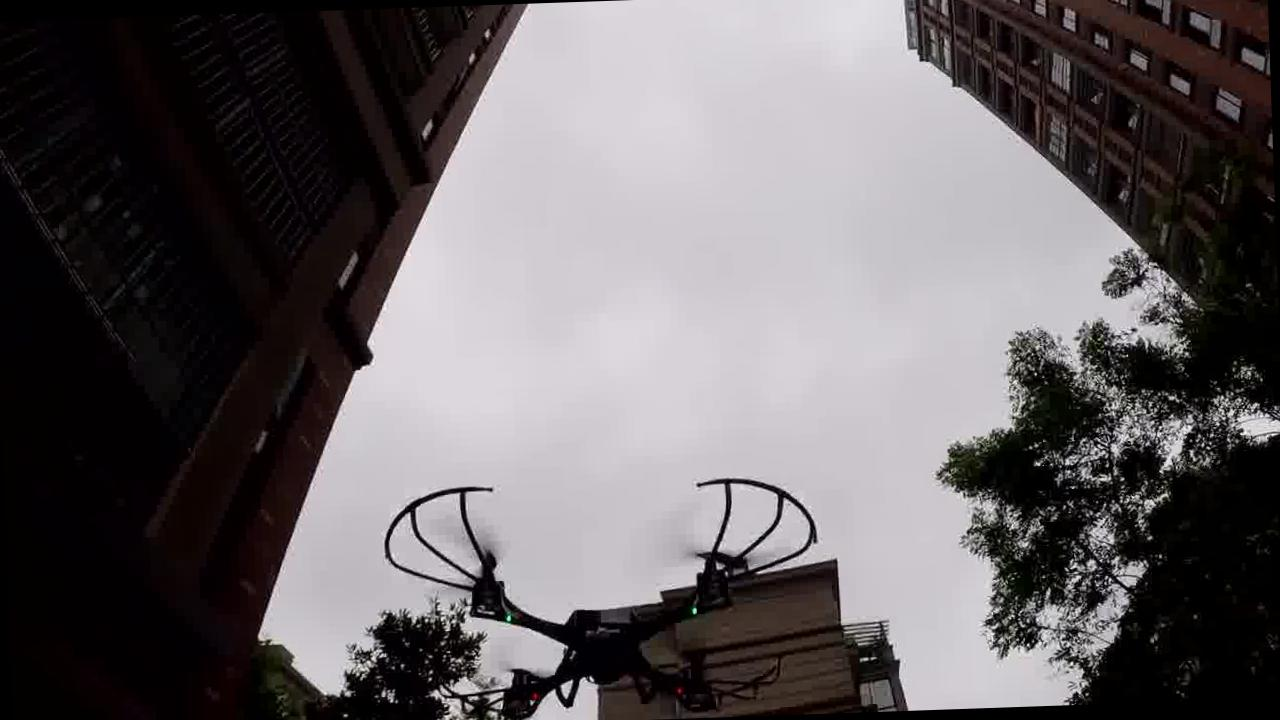drone: (367, 469, 807, 719)
